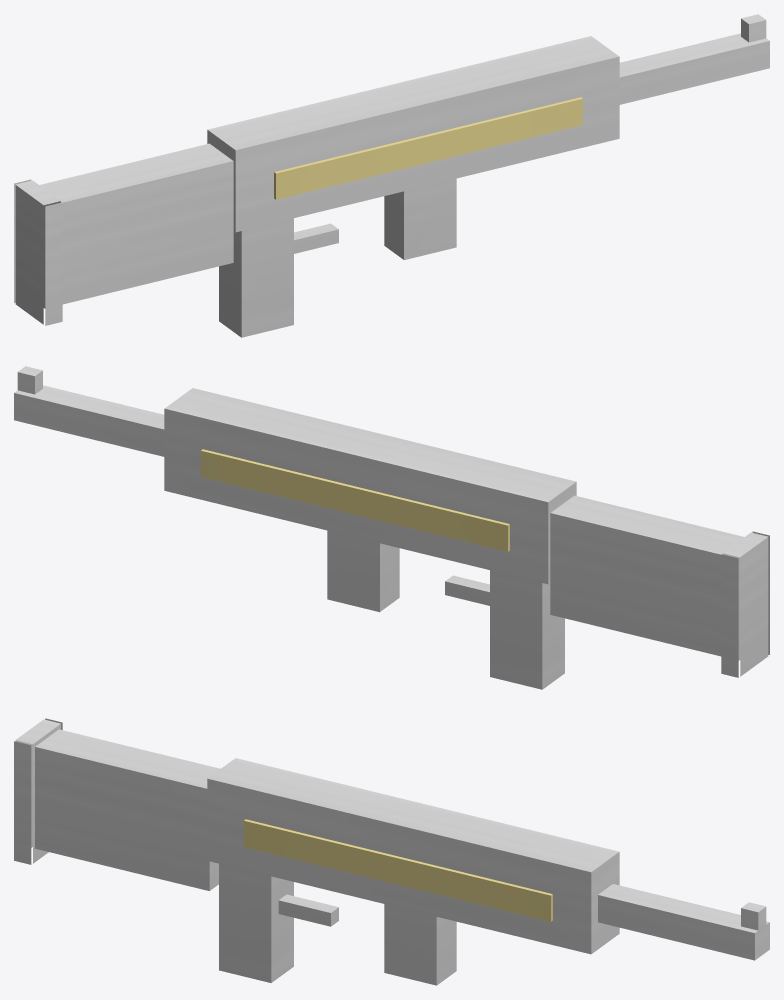
File: charge_rifle.obj
3 views of the same model, one above another, from view 1: azimuth 30°, elevation 25°; view 2: azimuth 150°, elevation 25°; view 3: azimuth 330°, elevation 25° (orthographic).
Visible parts, largest first — view 1: charge_rifle; view 2: charge_rifle; view 3: charge_rifle.
Part boxes in pixels (x1,y1,x2,y2): charge_rifle: (14,14,769,337); charge_rifle: (14,366,769,689); charge_rifle: (14,718,769,985).
Size of the model in its own units: 0.84 by 0.21 by 0.064.
